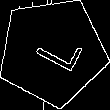L_NW: (23, 26, 82, 77)
